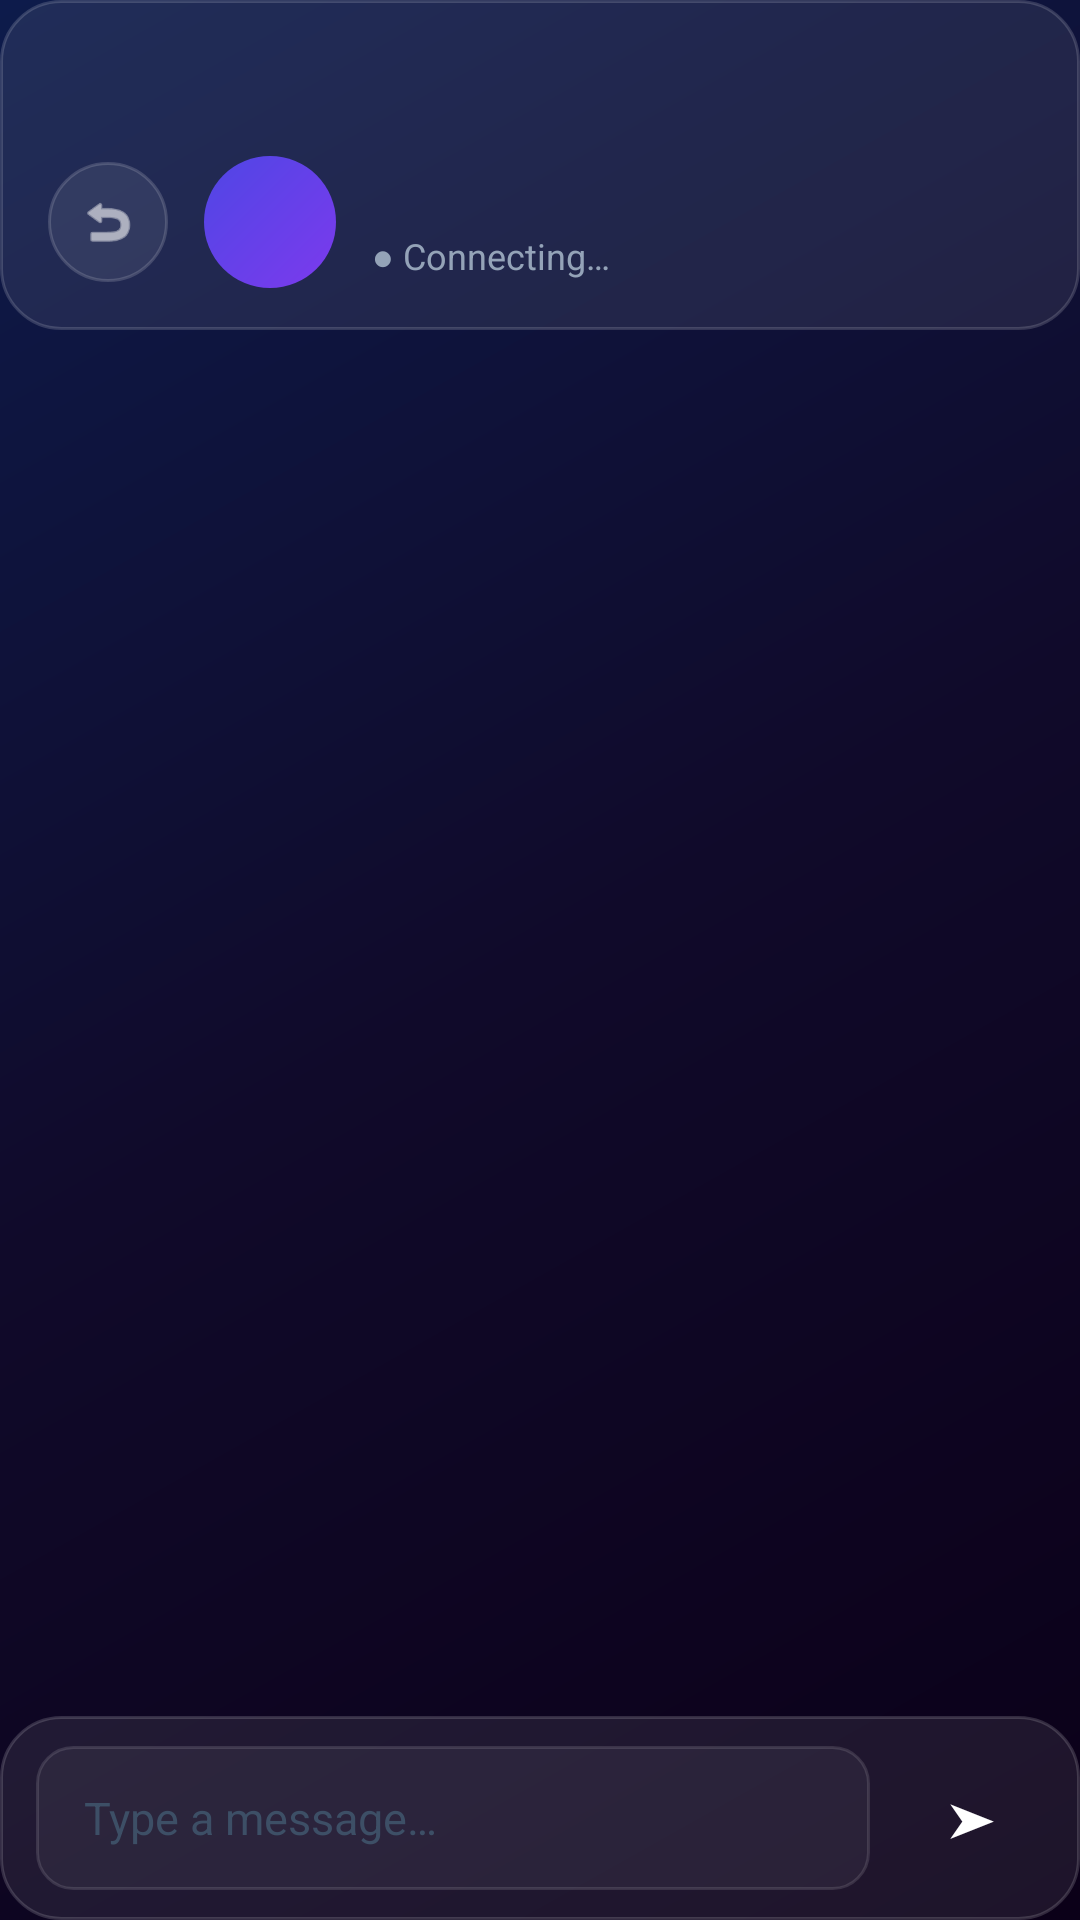

Icons on this 1080×1920 Android screen, each with the point to tap as (x,y):
revert: (108,222)
